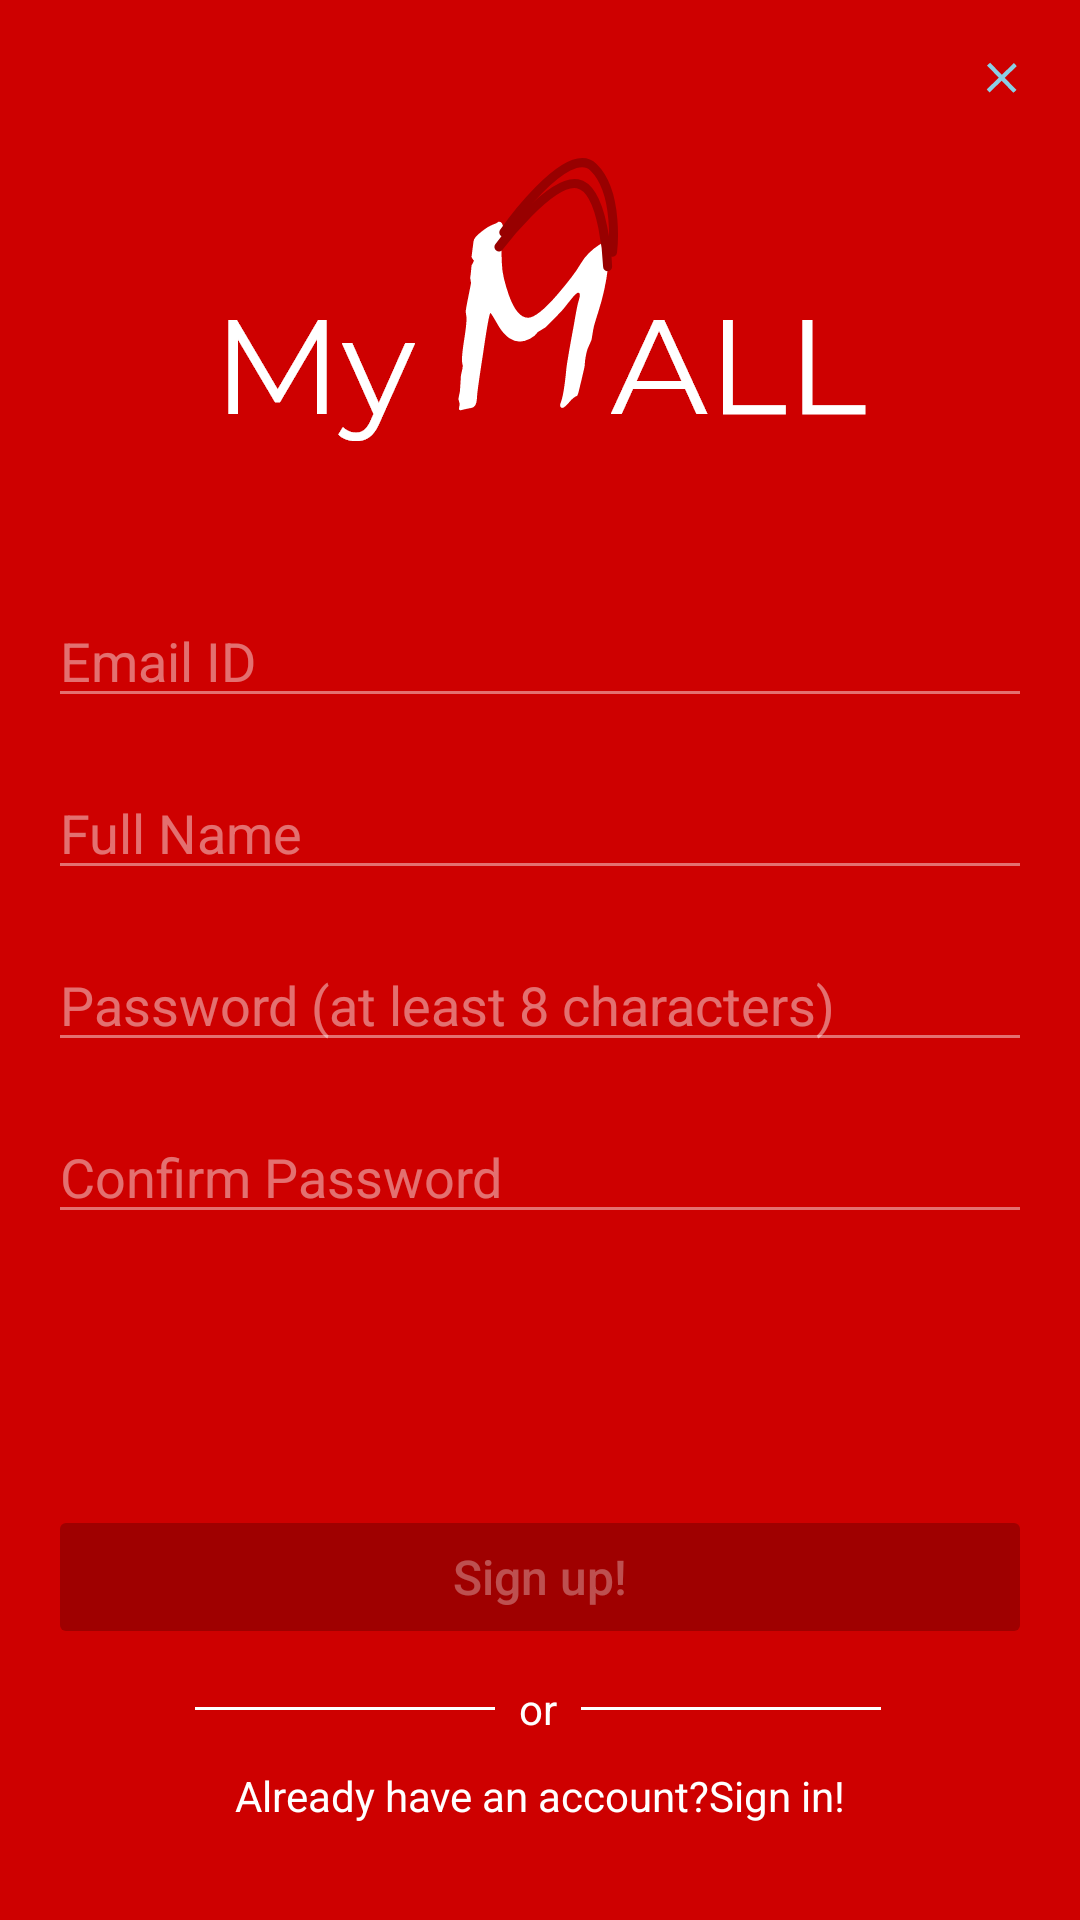

Point at icon controls on the screen. Image size 1080×1920, points as [x,y].
expand close: [1002,78]
